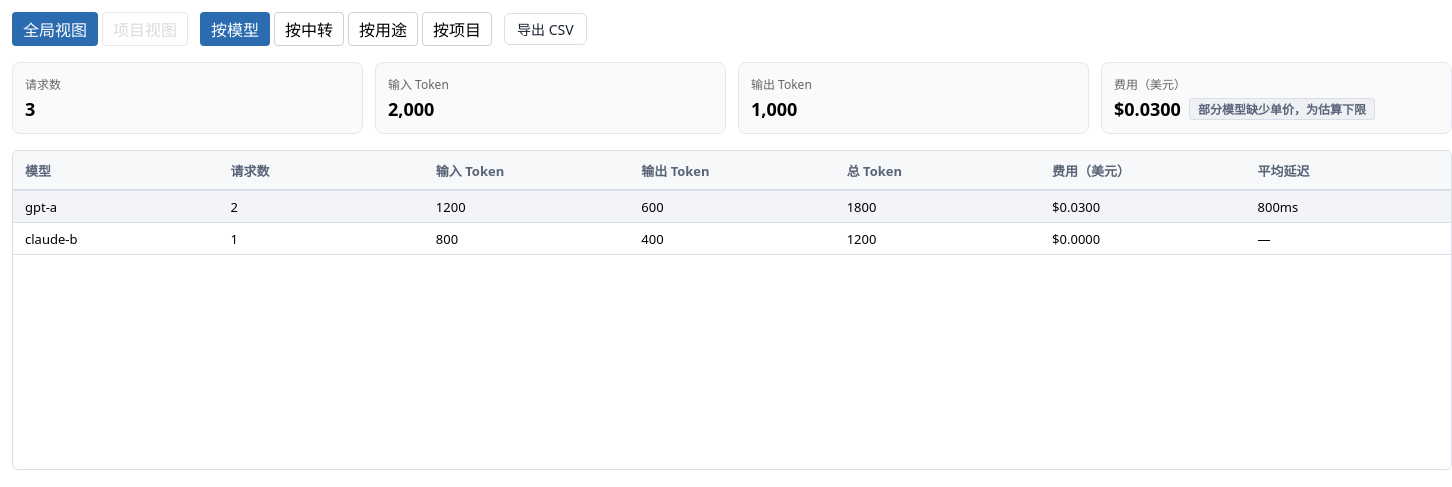
Scenario: UsageDashboard › 切换分组维度（按中转）
The width and height of the screenshot is (1452, 487).
Expected: the text "gpt-a" is shown, [25,198,57,216]
Click the button "按中转": (309, 29) [274,12,344,46]
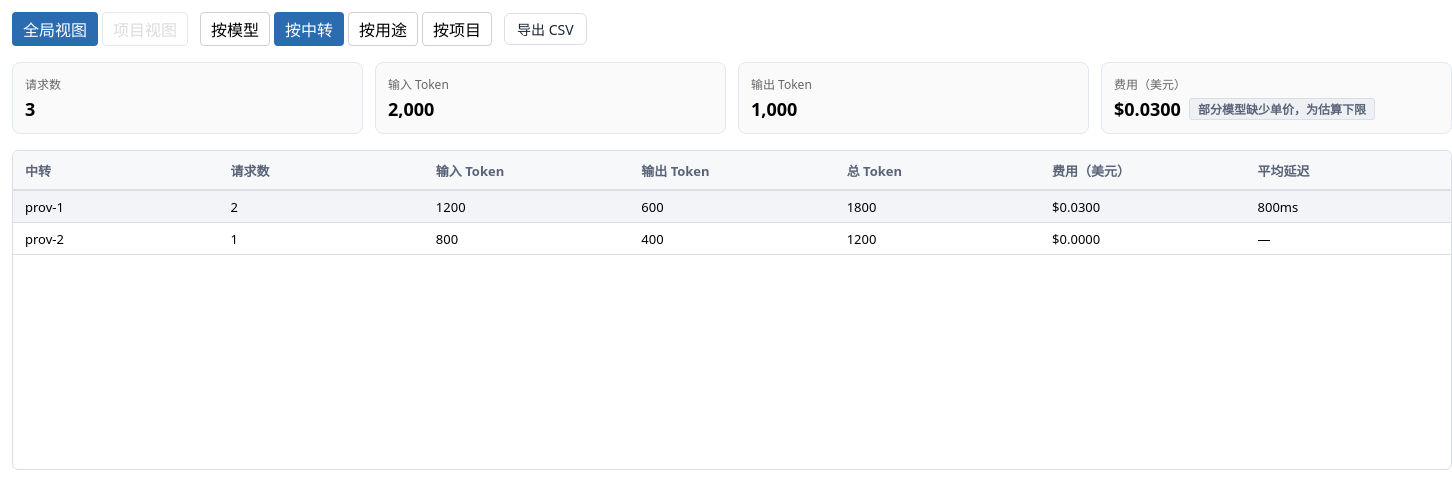
Expected: the text "prov-1" is shown, [25,198,64,216]
Expected: the text "prov-2" is shown, [25,230,64,248]
